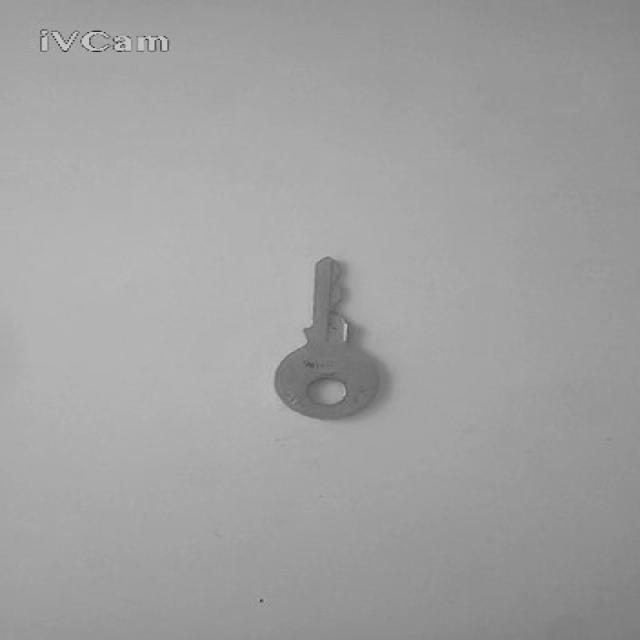key: (275, 257, 380, 420)
